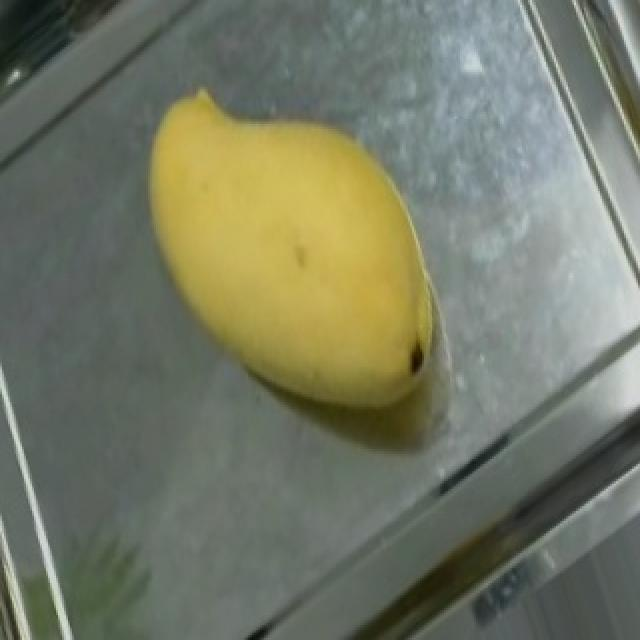fruit: (74, 45, 506, 459)
